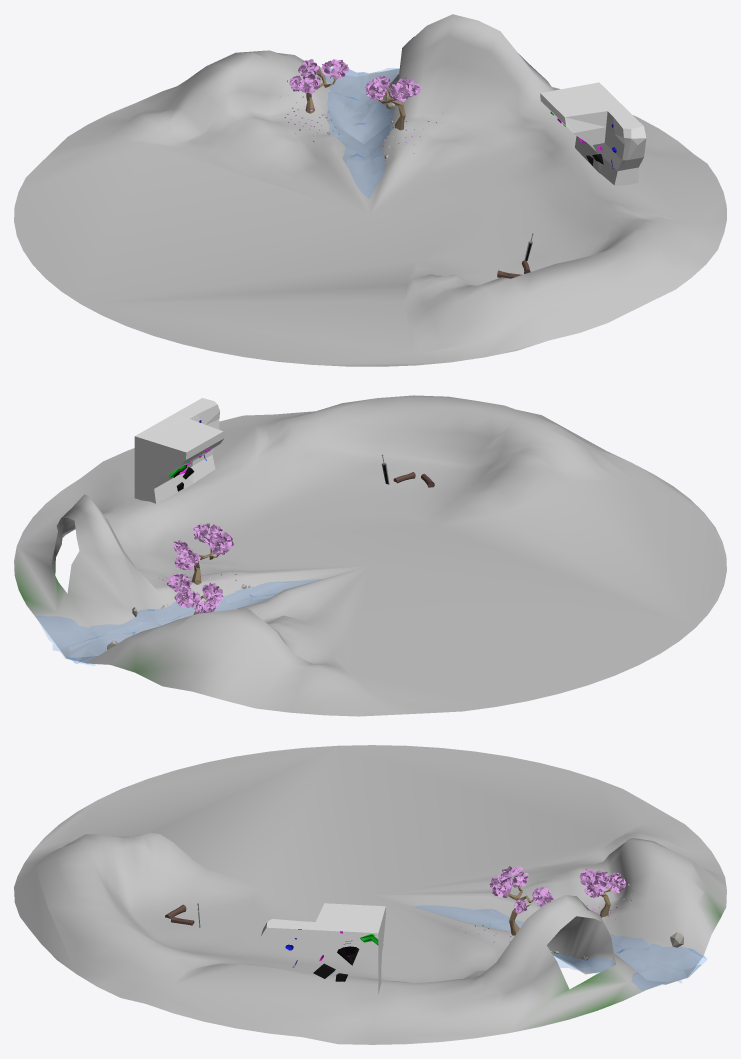
3 renders of one model, top to bottom at view 1: azimuth 30°, elevation 25°; view 2: azimuth 150°, elevation 25°; view 3: azimuth 270°, elevation 25°, orthographic.
Parts seen in each view (by area): view 1: Circle, Cube.002, Plane.002; view 2: Circle, Cube.002, Plane.002; view 3: Circle, Plane.002, Cube.002.
Part boxes in pixels (x1,y1,x2,y2): Circle: [14, 14, 726, 366]; Cube.002: [540, 82, 646, 185]; Plane.002: [325, 68, 399, 198]; Circle: [14, 395, 726, 716]; Cube.002: [134, 398, 224, 503]; Plane.002: [36, 579, 321, 665]; Circle: [14, 745, 726, 1044]; Plane.002: [416, 905, 706, 990]; Cube.002: [261, 903, 385, 994].
Bounding box in the file's own units: 35.1 × 6.94 × 35.28.
Materials: 12 (1 with a texture image).
